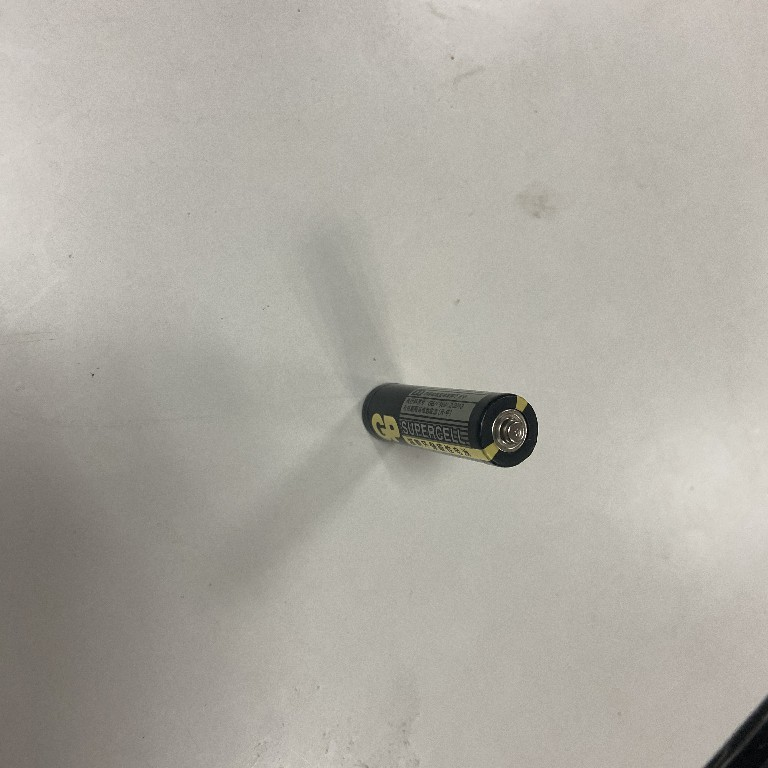charge: (359, 379, 542, 472)
